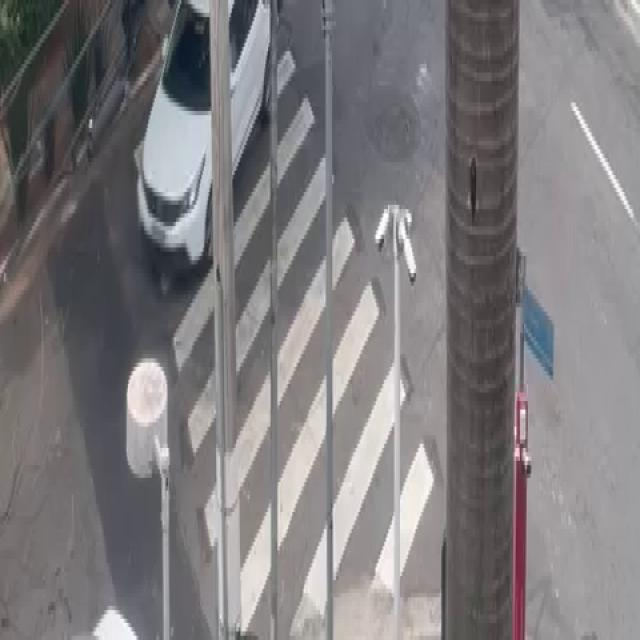car: (143, 0, 270, 279)
